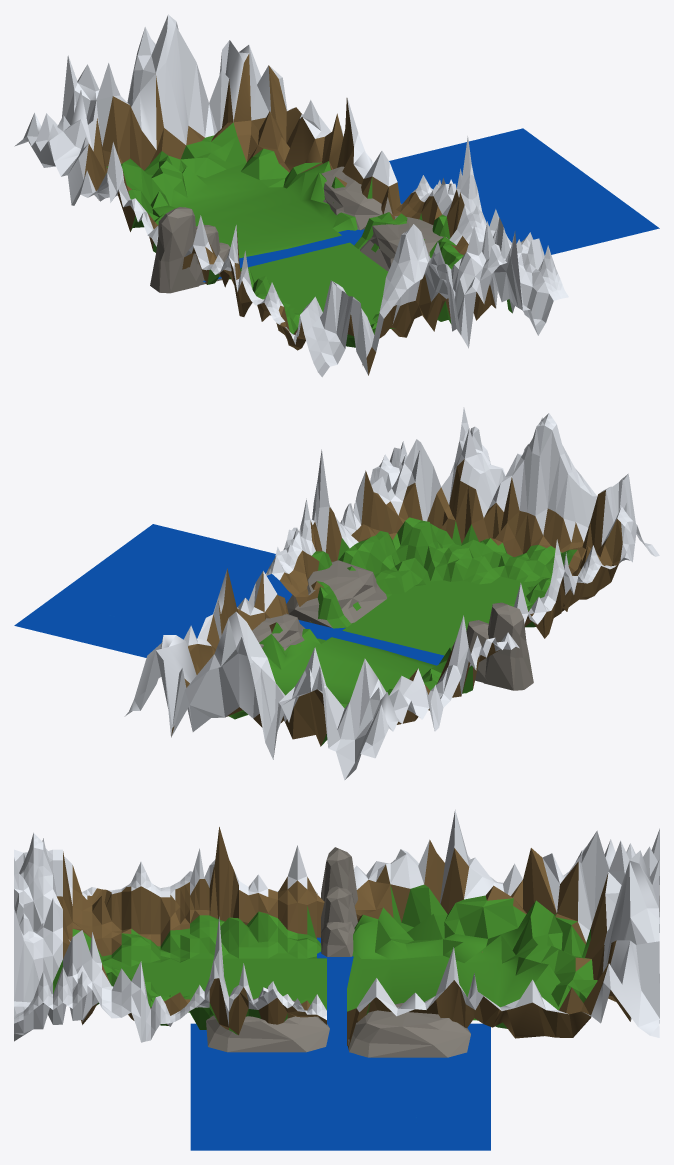
Rendered from TERRAIN.obj.
3 views of the same model, one above another, from view 1: azimuth 30°, elevation 25°; view 2: azimuth 150°, elevation 25°; view 3: azimuth 270°, elevation 25° (orthographic). The views are drawn at different scales.
Visible parts, largest first — view 1: Terrain_Plane.002, Terrain_Plane.001, Water_2, RockLarge01.002, RockLarge01.004, RockLarge01.003, Water_1; view 2: Terrain_Plane.001, Terrain_Plane.002, Water_2, RockLarge01.003, RockLarge01.002, Water_1, RockLarge01.004, RockLarge01.001; view 3: Terrain_Plane.002, Terrain_Plane.001, Water_2, RockLarge01.004, RockLarge01.003, Water_1, RockLarge01.002, RockLarge01.001, RockLarge01.
Part boxes in pixels (x1,y1,x2,y2): Terrain_Plane.002: (14, 14, 400, 258); Terrain_Plane.001: (182, 136, 568, 377); Water_2: (389, 128, 659, 255); RockLarge01.002: (150, 207, 198, 293); RockLarge01.004: (321, 166, 401, 230); RockLarge01.003: (360, 216, 447, 271); Water_1: (203, 229, 364, 282); Terrain_Plane.001: (265, 407, 659, 655); Terrain_Plane.002: (124, 568, 519, 780); Water_2: (14, 524, 317, 657); RockLarge01.003: (286, 560, 386, 627); RockLarge01.002: (484, 602, 533, 690); Water_1: (298, 620, 443, 665); RockLarge01.004: (252, 613, 305, 650); RockLarge01.001: (466, 620, 488, 682); Terrain_Plane.002: (347, 810, 659, 1049); Terrain_Plane.001: (14, 827, 326, 1042); Water_2: (190, 1023, 490, 1150); RockLarge01.004: (348, 1003, 470, 1057); RockLarge01.003: (206, 998, 329, 1052); Water_1: (317, 937, 356, 1063); RockLarge01.002: (321, 847, 357, 905); RockLarge01.001: (321, 886, 357, 932); RockLarge01: (321, 921, 354, 956).
Size of the model in its own units: 531 by 161 by 618.
10 materials, 1 textured.
